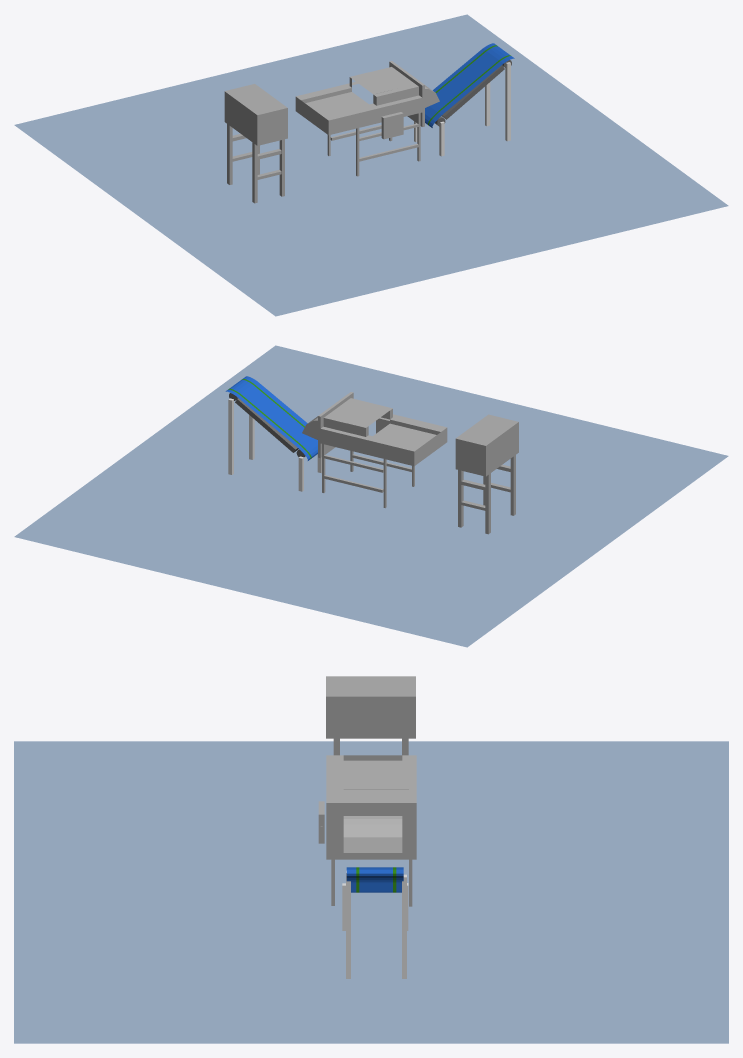
Rendered from machine.glb.
The picture shows the model from 3 angles, top to bottom: view 1: azimuth 30°, elevation 25°; view 2: azimuth 150°, elevation 25°; view 3: azimuth 270°, elevation 25°; orthographic projection. The views are drawn at different scales.
Visible parts, largest first — view 1: Plane, Cube, Cube.001, Cylinder.001, Cylinder.003; view 2: Plane, Cube, Cube.001, Cylinder.001, Cylinder.003; view 3: Plane, Cube, Cube.001, Cylinder.001.
Boxes of the visible parts, x1,y1,x2,y2 form: Plane: [14, 14, 728, 316]; Cube: [295, 61, 439, 176]; Cube.001: [224, 84, 287, 203]; Cylinder.001: [425, 43, 514, 127]; Cylinder.003: [441, 60, 511, 119]; Plane: [14, 345, 728, 647]; Cube: [302, 392, 447, 508]; Cube.001: [455, 414, 518, 534]; Cylinder.001: [225, 376, 317, 460]; Cylinder.003: [229, 393, 298, 452]; Plane: [14, 741, 728, 1043]; Cube: [318, 755, 416, 906]; Cube.001: [326, 676, 415, 755]; Cylinder.001: [346, 867, 403, 892].
Bounding box in the file's own units: 15.88 × 3.26 × 15.88.
